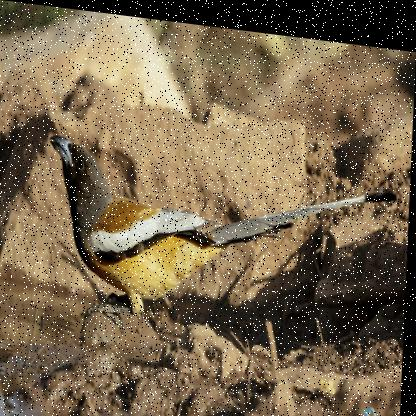Burung: (44, 131, 399, 358)
